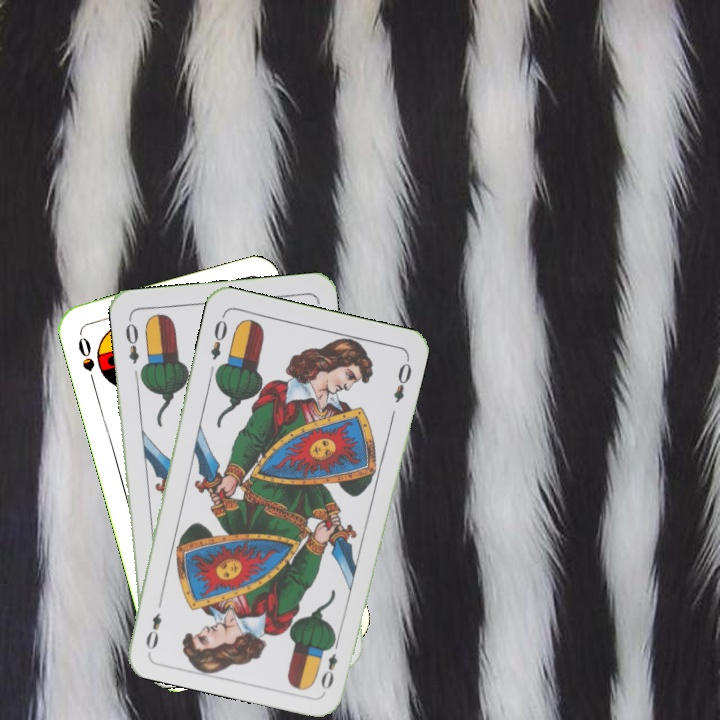EO: (317, 635, 342, 692), (206, 316, 230, 363), (121, 314, 142, 366)
SO: (74, 333, 98, 388)
